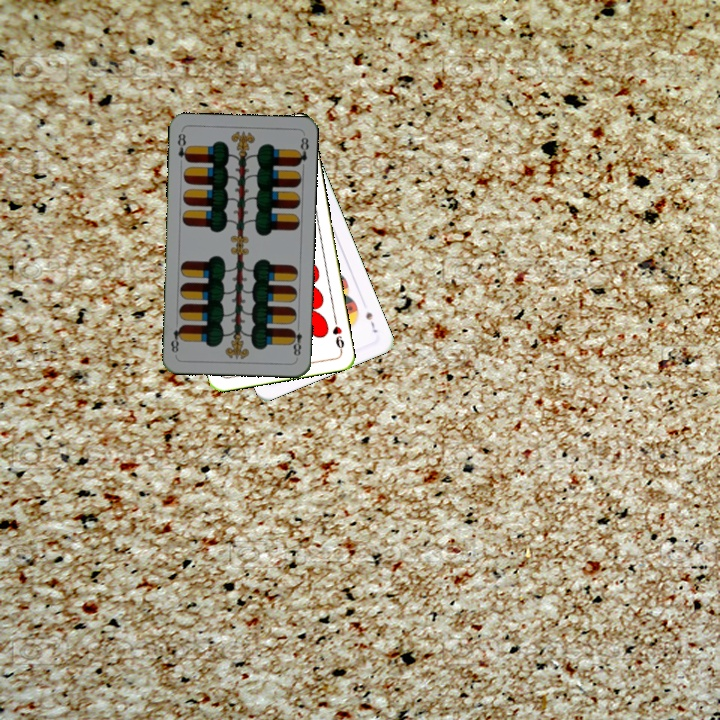E8: (173, 129, 192, 164), (287, 320, 304, 359)
H9: (328, 314, 347, 354)
S7: (362, 308, 380, 335)
